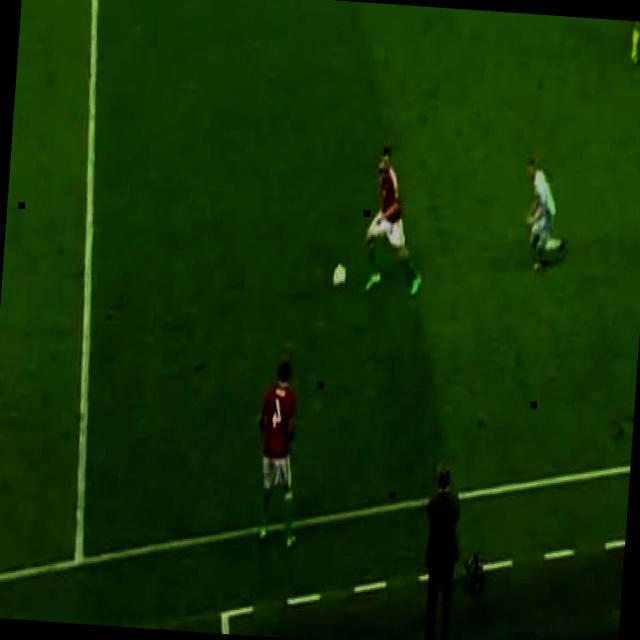ball: (332, 263, 348, 291)
player-white: (251, 358, 308, 548), (362, 147, 430, 301), (520, 152, 570, 274), (627, 21, 640, 67)
